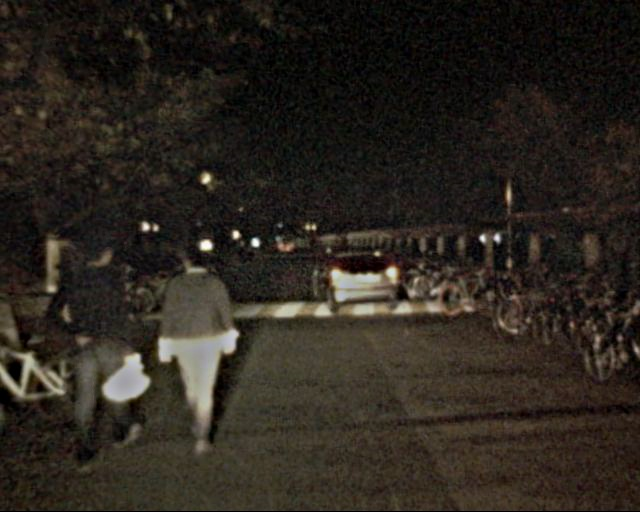person: (69, 223, 136, 454), (170, 228, 240, 444)
